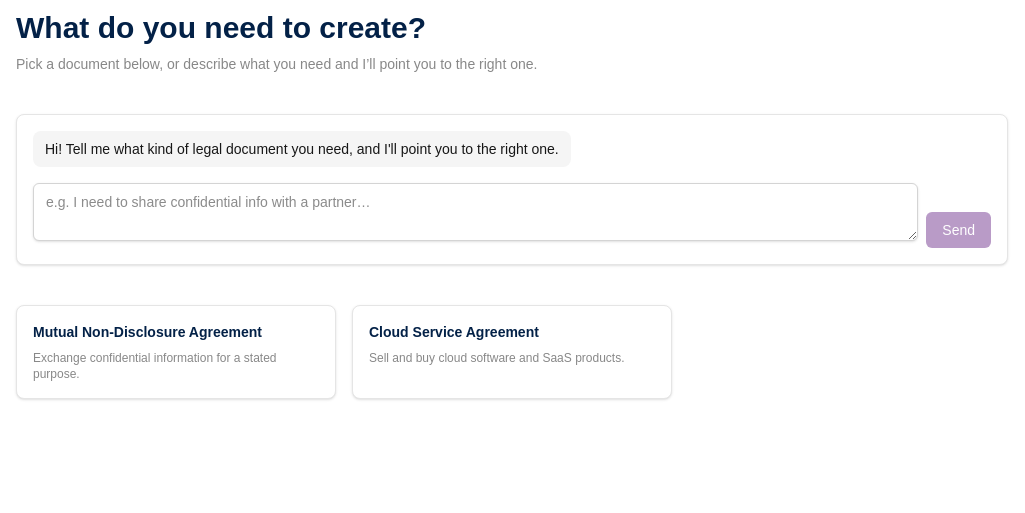
Test: DocumentPicker › does not navigate when nothing matches, and shows the explanation instead
The image size is (1025, 513).
Type "I need an employment contract" into the text box named "Message".
click(476, 212); type("I need an employment contract")  # box [33,183,918,241]
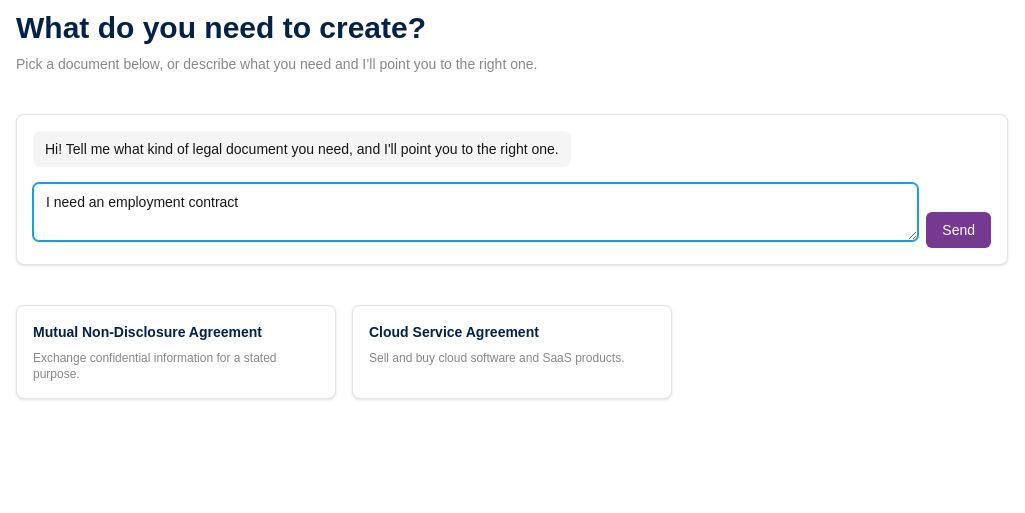
Click the button "Send".
click(959, 230)  # box [926,212,991,248]
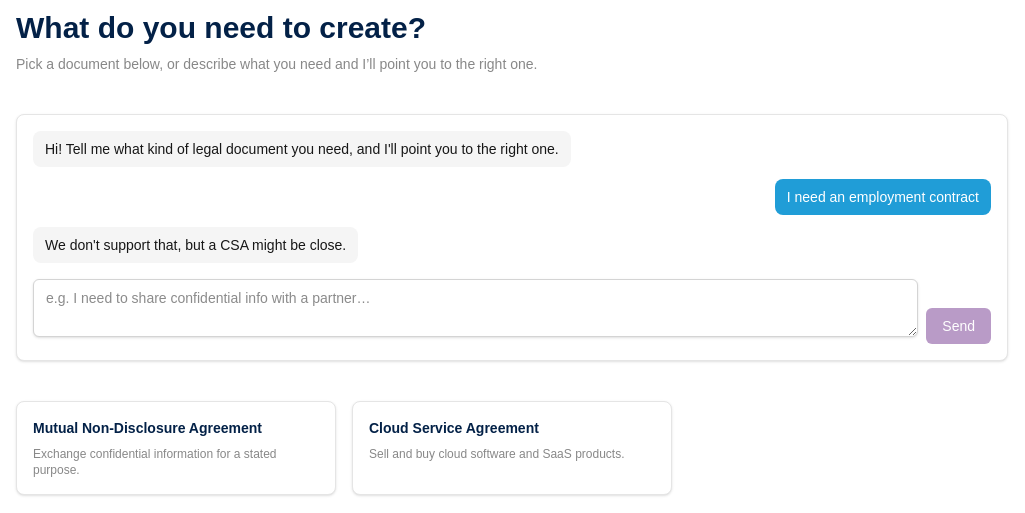
Check: the text "We don't support that, but a CSA might be close." is shown, box [33,227,358,263]
